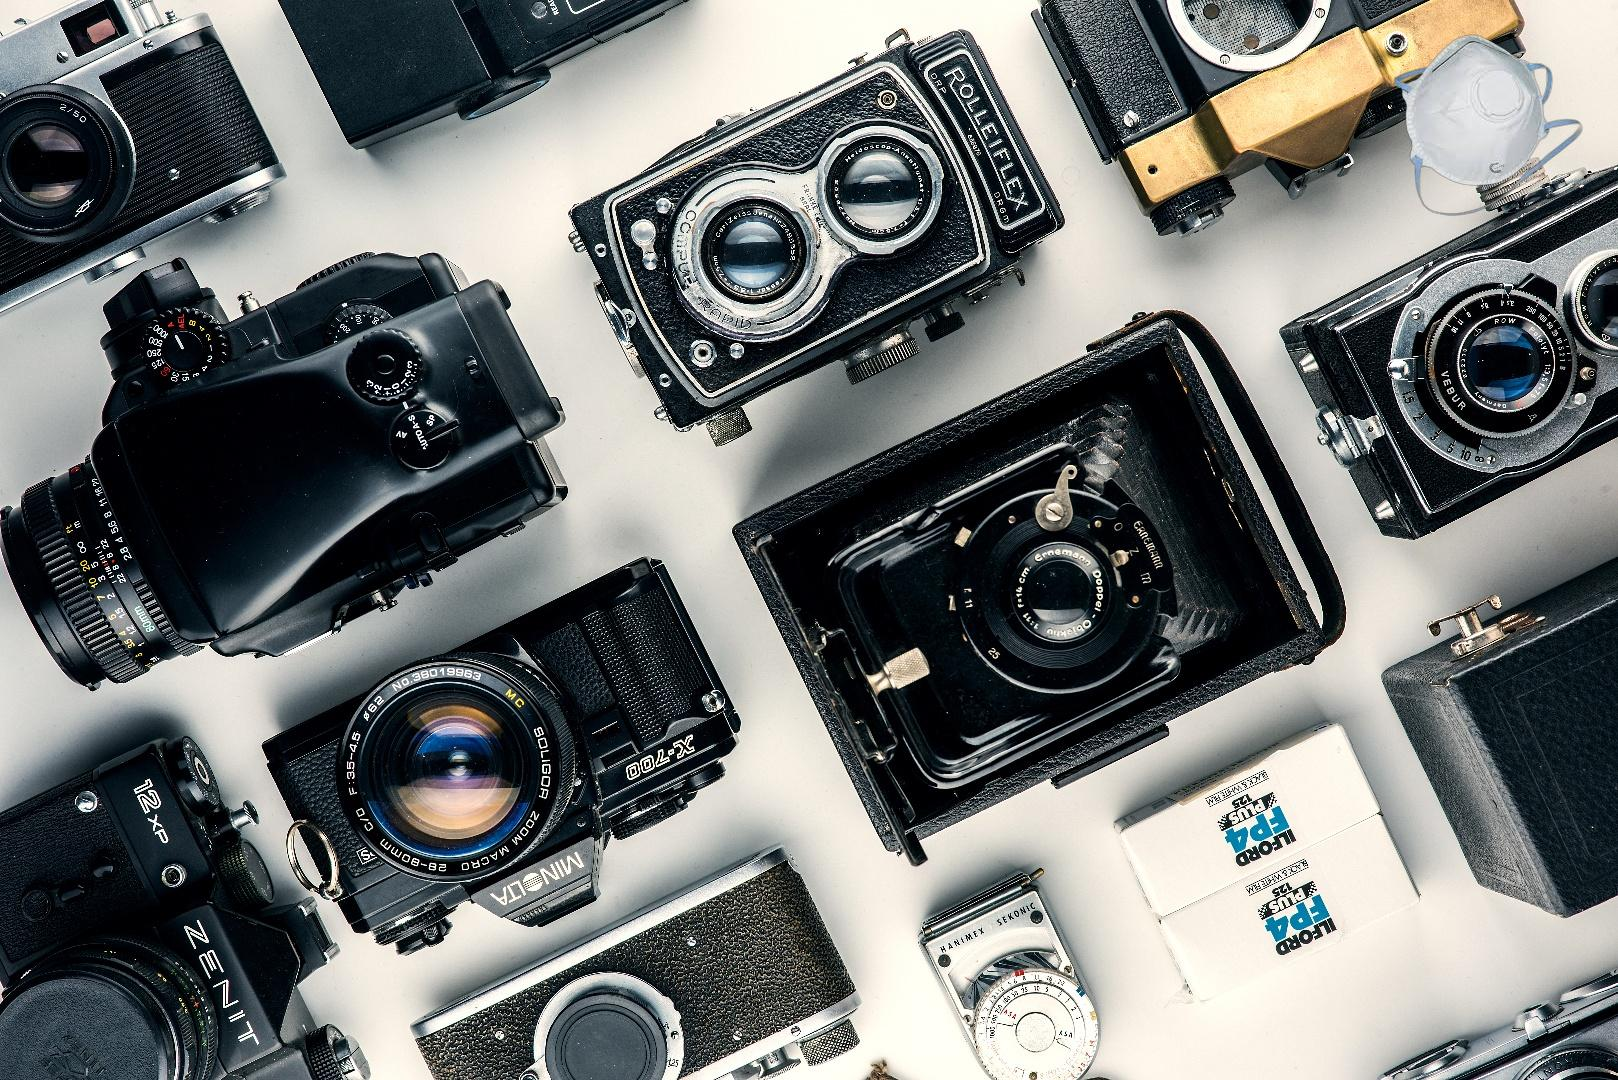trash: (1392, 33, 1584, 218)
